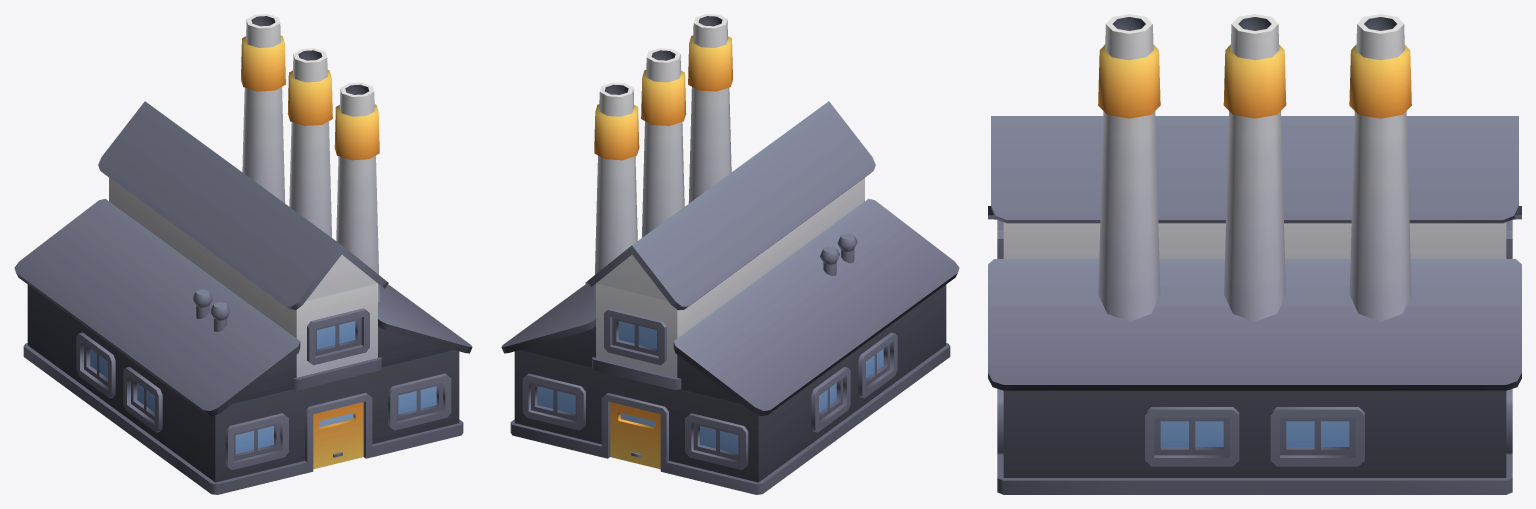
The model's file is k-city-kit-industrial-building-m.glb.
3 renders of one model, left to right at view 1: azimuth 30°, elevation 25°; view 2: azimuth 150°, elevation 25°; view 3: azimuth 270°, elevation 25°, orthographic. The views are drawn at different scales.
Parts seen in each view (by area): view 1: building-m; view 2: building-m; view 3: building-m.
Boxes of the visible parts, x1,y1,x2,y2 form: building-m: (14,14,472,494); building-m: (501,14,959,494); building-m: (988,14,1521,494).
Size of the model in its own units: 1.32 by 1.52 by 1.7.
Materials: 1 (1 with a texture image).
